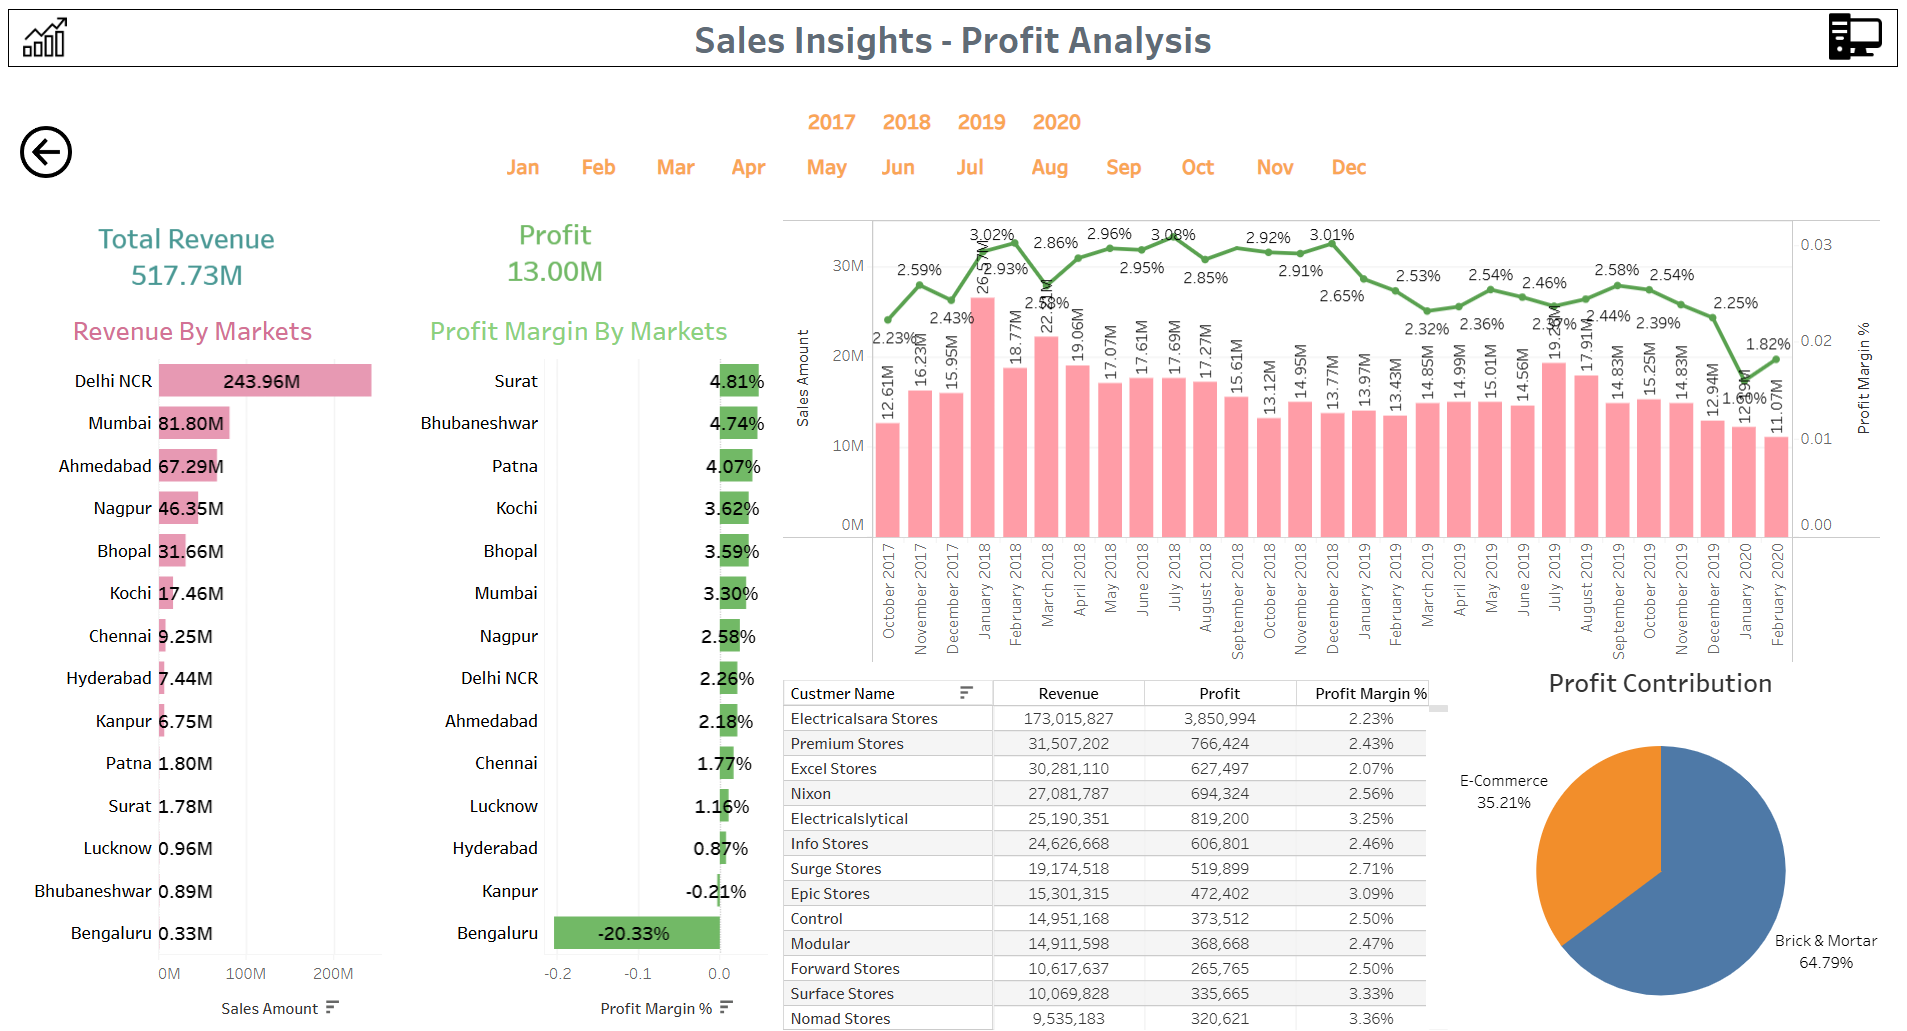

The page's visual inventory and layout, read from the dashboard file:
{"tool":"tableau","page":{"name":"Dashboard - Profit Analysis","canvas":[1000,1000],"units":"permille","ordinal":0},"visuals":[{"type":"title","box":[4.8,9.4,990.3,63.5]},{"type":"image","param":"Image/data-analysis-13.png","box":[13.3,15.3,30.2,51.7]},{"type":"image","param":"Image/2425969.png","box":[956.6,15.3,35,50.5]},{"type":"worksheet","title":"Year","mark":"Automatic","cols":["cy_date"],"box":[421.9,90.5,282.4,41.1]},{"type":"worksheet","title":"Month","mark":"Automatic","cols":["cy_date"],"box":[264.9,134,584.8,41.1]},{"type":"worksheet","title":"Profit","mark":"Automatic","box":[259.7,193.4,81.5,128.9]},{"type":"worksheet","title":"Revenue","mark":"Automatic","box":[48,196.9,124.1,127.2]},{"type":"worksheet","title":"Profit Trend","mark":"Bar","rows":["Calculation_4639833578761936896","Calculation_524387947223625728"],"cols":["cy_date"],"box":[411.3,198.6,572.7,440.8]},{"type":"worksheet","title":"Revenue By Markets","mark":"Automatic","rows":["markets_name"],"cols":["Calculation_4639833578761936896"],"box":[5.4,297.3,196.7,694.5]},{"type":"worksheet","title":"Profit Margin By Markets","mark":"Automatic","rows":["markets_name"],"cols":["Calculation_524387947223625728"],"box":[206.4,297.3,197.3,694.5]},{"type":"worksheet","title":"Pie Chart","mark":"Pie","box":[745.9,634.6,245,354.9]},{"type":"worksheet","title":"Customer Table","mark":"Automatic","rows":["custmer_name"],"box":[411.6,638.1,346.4,352.5]}]}

Visuals, with their boxes on the dashboard's canvas, which has no fixed pixel size, in thousandths of its width and height (x1, y1, x2, y2). These are canvas units, not pixel positions in the 1907x1031 screenshot, which may show the page scaled, cropped or inside an application window:
title: 5:9:995:73
image: 13:15:44:67
image: 957:15:992:66
"Year" worksheet: 422:90:704:132
"Month" worksheet: 265:134:850:175
"Profit" worksheet: 260:193:341:322
"Revenue" worksheet: 48:197:172:324
"Profit Trend" worksheet (Bar marks): 411:199:984:639
"Revenue By Markets" worksheet: 5:297:202:992
"Profit Margin By Markets" worksheet: 206:297:404:992
"Pie Chart" worksheet (Pie marks): 746:635:991:990
"Customer Table" worksheet: 412:638:758:991
